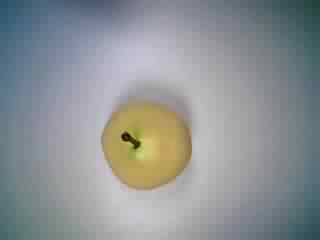pear: (95, 92, 194, 195)
